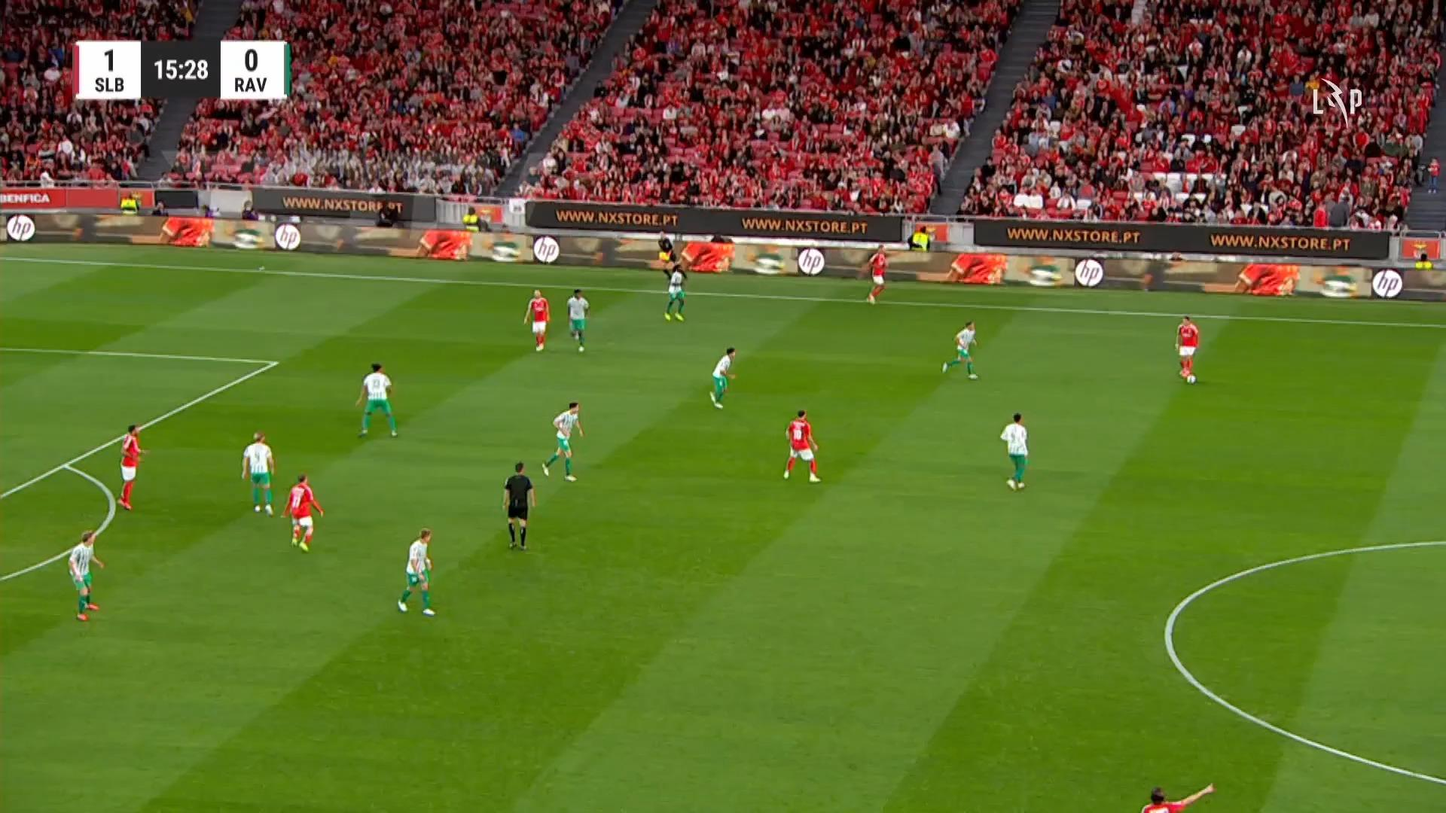ball: (292, 525, 302, 540)
player: (540, 401, 584, 482), (396, 527, 436, 615), (67, 529, 105, 621), (280, 473, 324, 552), (354, 361, 398, 438), (239, 431, 275, 516), (782, 408, 821, 483), (117, 423, 147, 510), (999, 412, 1029, 490), (941, 319, 979, 379), (1140, 781, 1216, 811), (708, 346, 737, 410), (1174, 314, 1200, 383), (523, 288, 550, 352), (566, 288, 589, 352), (663, 262, 687, 321), (865, 244, 888, 304)
referee: (502, 461, 535, 550), (657, 230, 674, 276)
